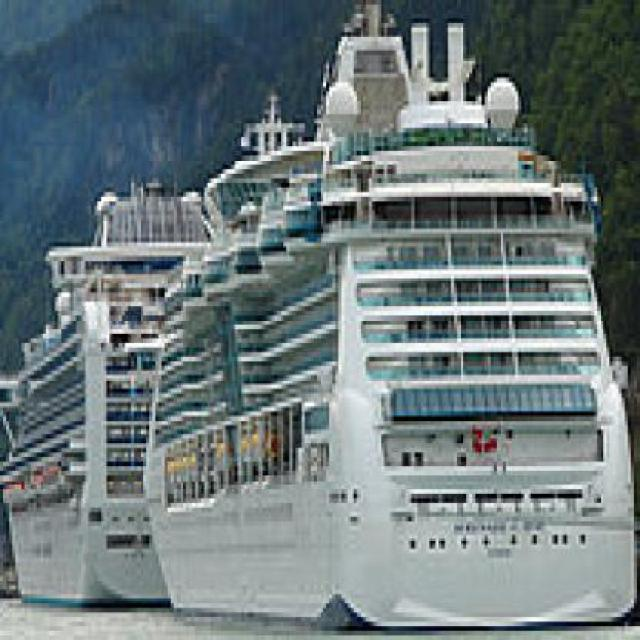cruise: (140, 1, 639, 639)
